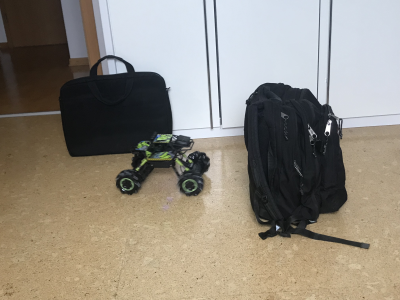remote control car: (113, 128, 211, 197)
